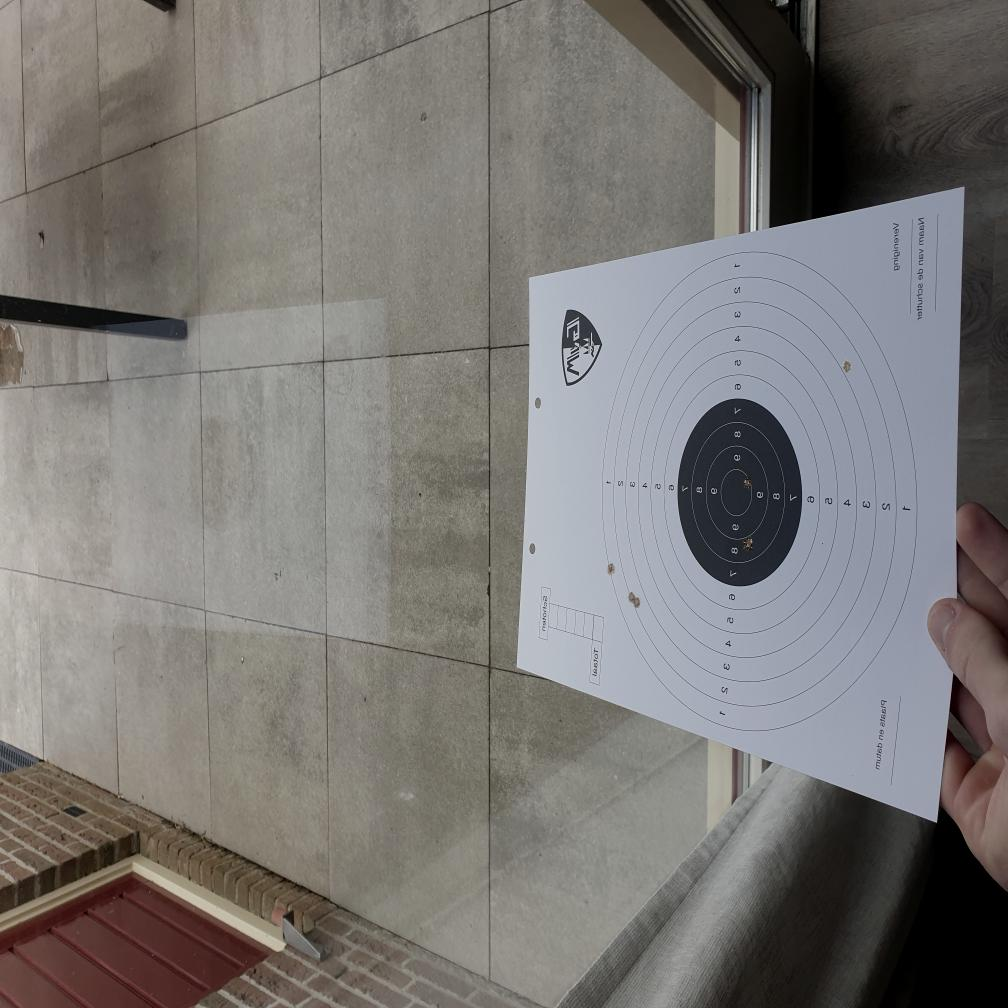1: (607, 564, 615, 576)
10: (743, 476, 752, 490)
2: (841, 359, 852, 373), (633, 597, 641, 609), (628, 589, 634, 602)
9: (742, 535, 754, 552)
Target: (599, 248, 914, 734)
black_contour: (677, 398, 802, 587)
